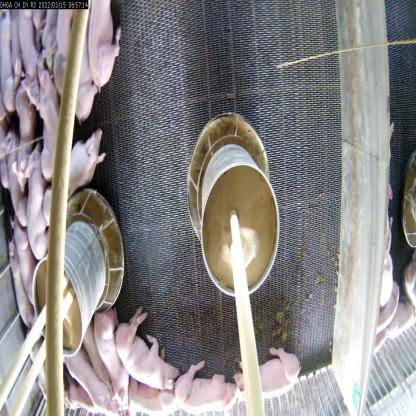Pig: (222, 347, 300, 415), (47, 127, 101, 222), (112, 318, 173, 393), (69, 0, 95, 134), (91, 319, 134, 398), (11, 64, 39, 182), (179, 363, 242, 415), (60, 349, 107, 415), (90, 0, 125, 85), (26, 160, 54, 256), (39, 59, 61, 180), (7, 224, 41, 300), (4, 119, 29, 219), (135, 382, 183, 416)
